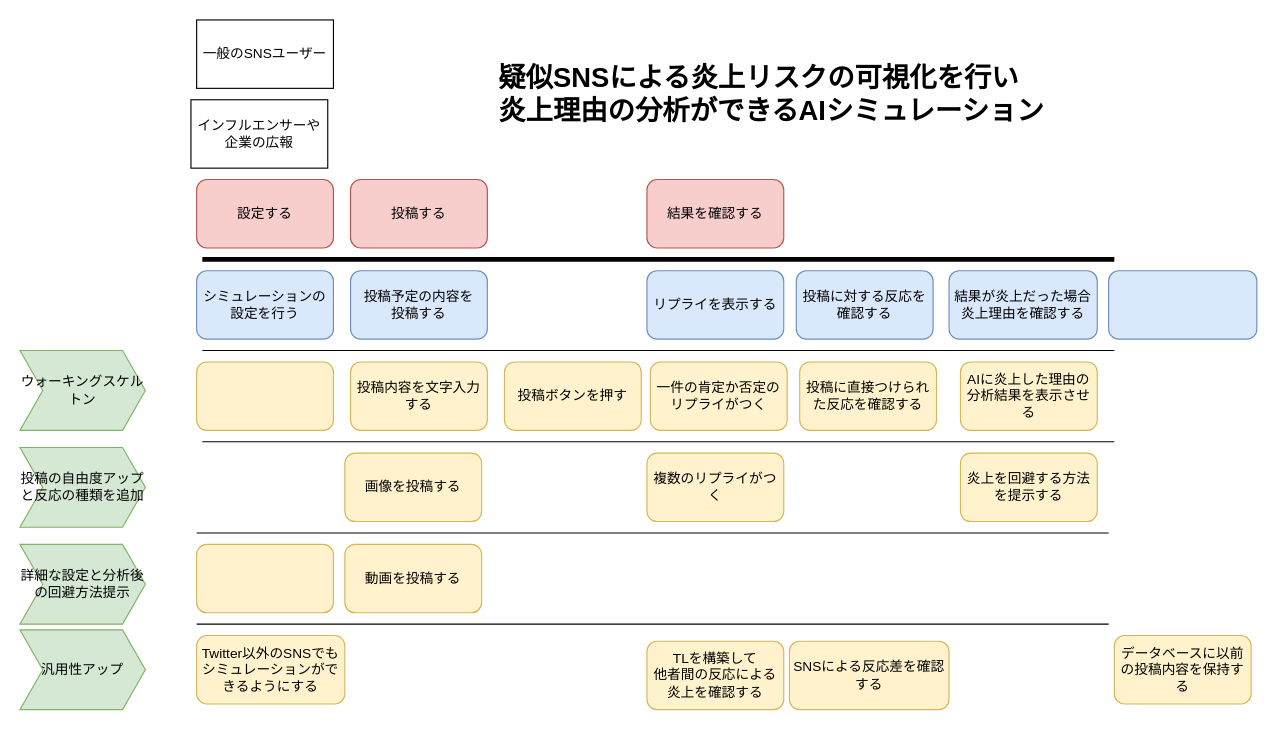
Image size: 1277x730. Some labels were removed from this diagram. The box of each missing label's shape, as (x1, y1, x2, y2) in pixels:
シミュレーション結果を保持させる: (1108, 270, 1257, 339)
基底の設定で開始する: (196, 361, 333, 430)
投稿するアカウントのジャンルを決める: (196, 543, 333, 613)
